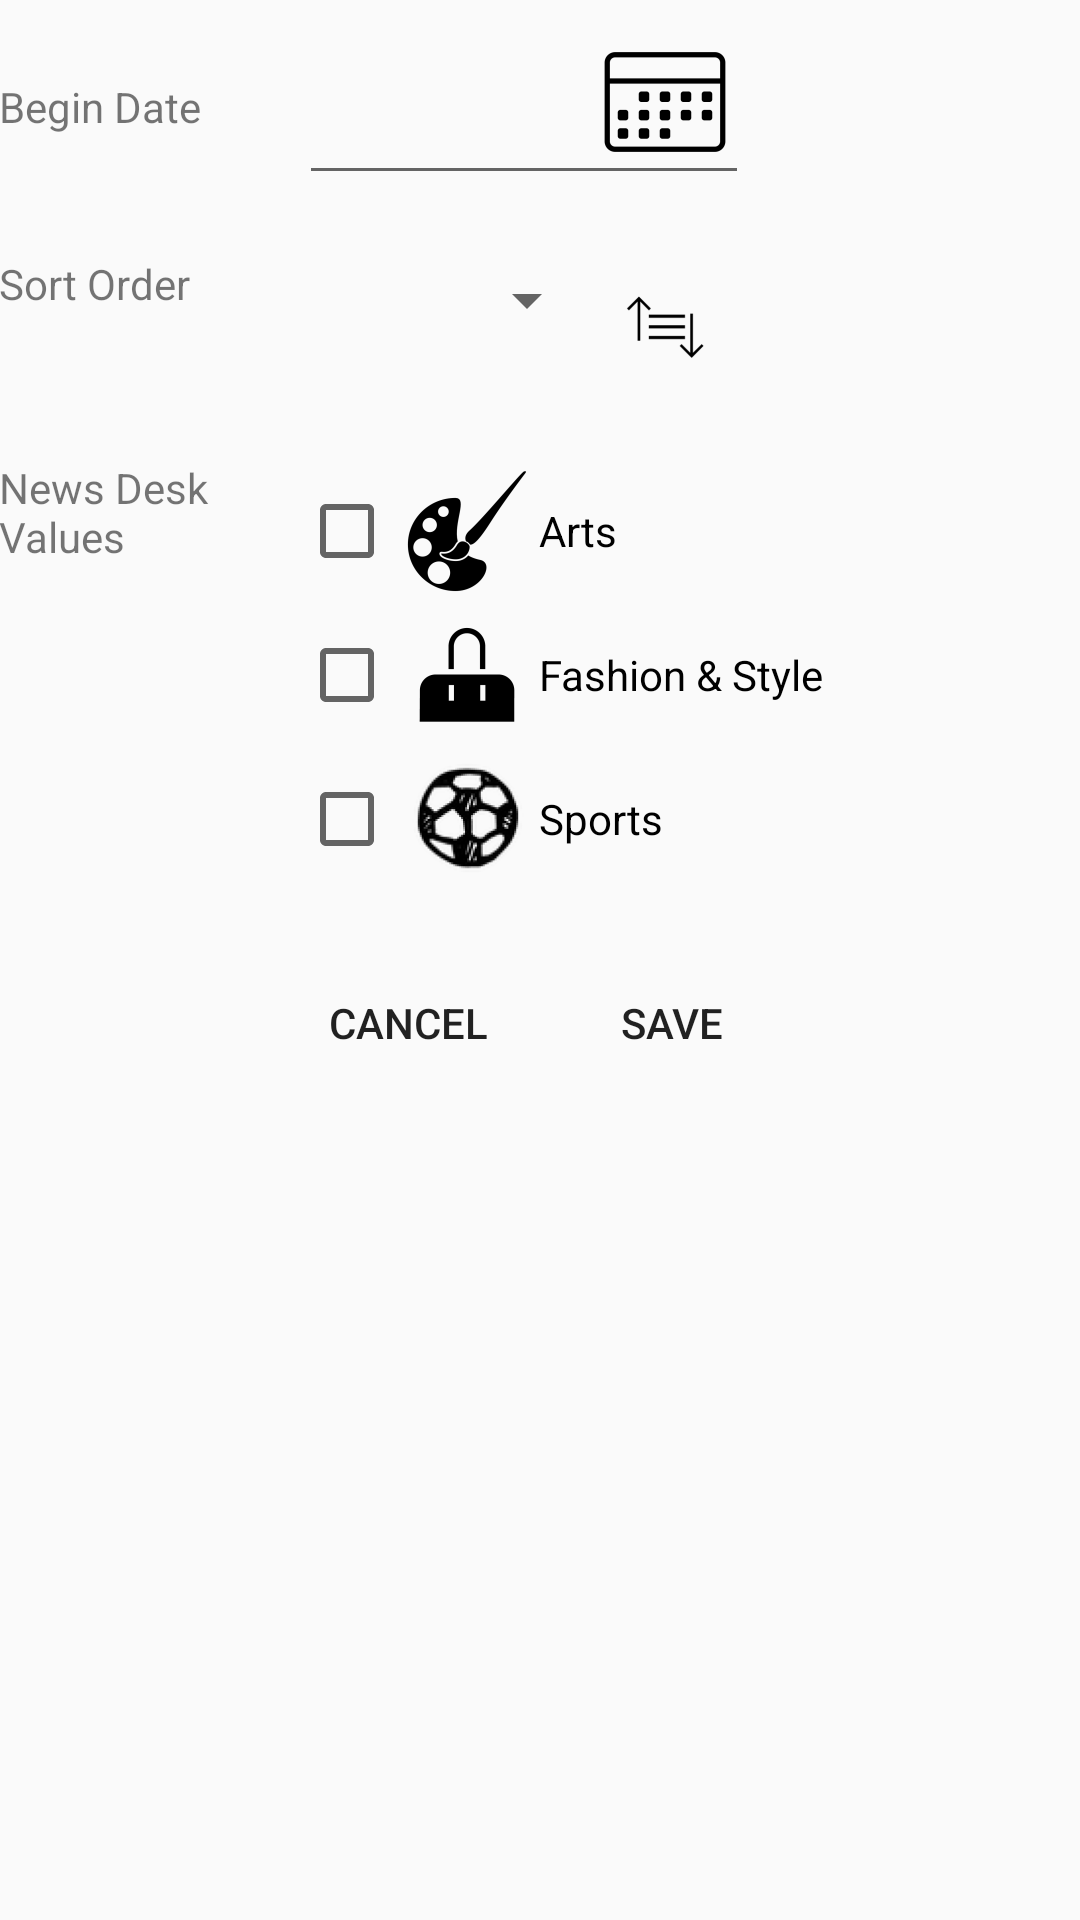

Icons on this 1080px×1920px Android screen, each with the point to tap as (x,y):
order: (665,327)
